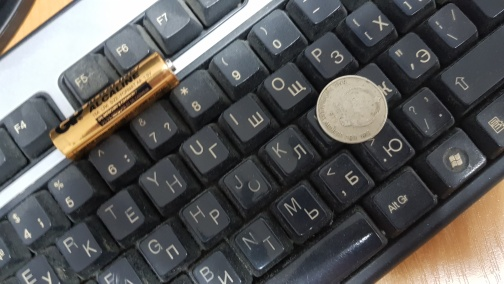coin: (315, 75, 388, 145)
